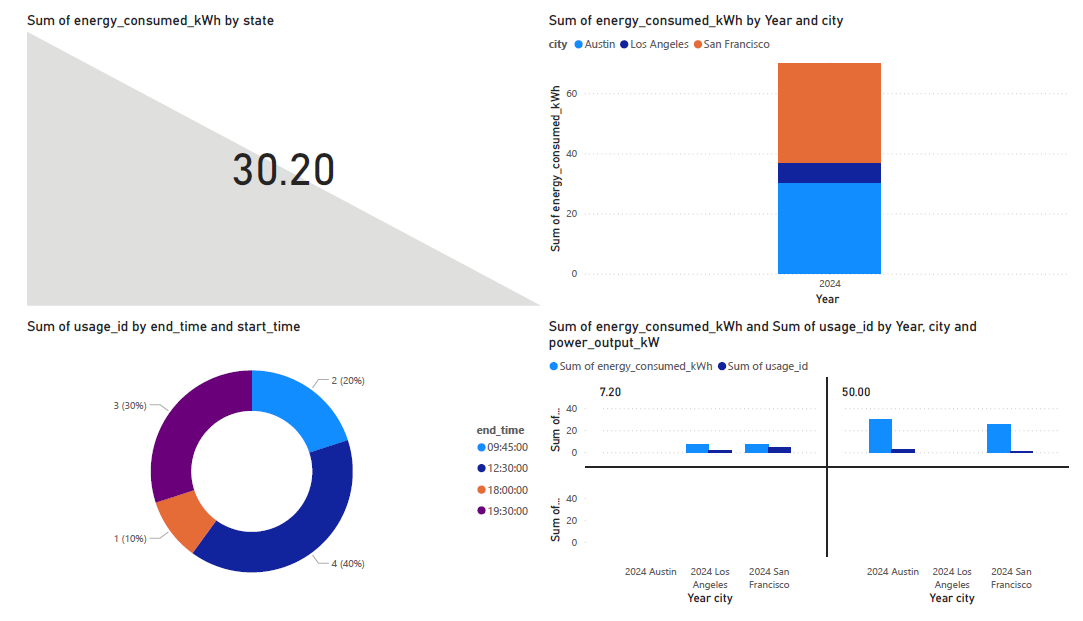

Layout of this report page (visuals, bound fields, positions):
{"tool":"powerbi","page":{"name":"Page 1","canvas":[1280,720],"ordinal":0},"visuals":[{"type":"kpi","fields":{"TrendLine":["stations.state"],"Indicator":["Sum(station_usage.energy_consumed_kWh)"]},"box":[11.8,0,629.4,358.8],"z":0},{"type":"lineStackedColumnComboChart","fields":{"Category":["station_usage.usage_date.Variation.Date Hierarchy.Year","station_usage.usage_date.Variation.Date Hierarchy.Quarter"],"Series":["stations.city"],"Y":["Sum(station_usage.energy_consumed_kWh)"]},"box":[641.2,0,638.2,358.8],"z":1000},{"type":"donutChart","fields":{"Category":["station_usage.end_time"],"Series":["station_usage.start_time"],"Y":["Sum(station_usage.usage_id)"]},"box":[12,369,629,351],"z":2000},{"type":"lineClusteredColumnComboChart","fields":{"Category":["station_usage.usage_date.Variation.Date Hierarchy.Year","stations.city"],"Rows":["chargers.power_output_kW"],"Y":["Sum(station_usage.energy_consumed_kWh)","Sum(station_usage.usage_id)"]},"box":[641,369,638,351],"z":3000}]}

Visuals, with their boxes in screenshot pixels (x1, y1, x2, y2), scaled from the page's 1280x720 canvas onto the 1083x621 screenshot:
kpi - stations.state x Sum(station_usage.energy_consumed_kWh): (10, 0, 543, 309)
lineStackedColumnComboChart - station_usage.usage_date.Variation.Date Hierarchy.Year x station_usage.usage_date.Variation.Date Hierarchy.Quarter: (543, 0, 1082, 309)
donutChart - station_usage.end_time x station_usage.start_time: (10, 318, 542, 620)
lineClusteredColumnComboChart - station_usage.usage_date.Variation.Date Hierarchy.Year x stations.city: (542, 318, 1082, 620)
